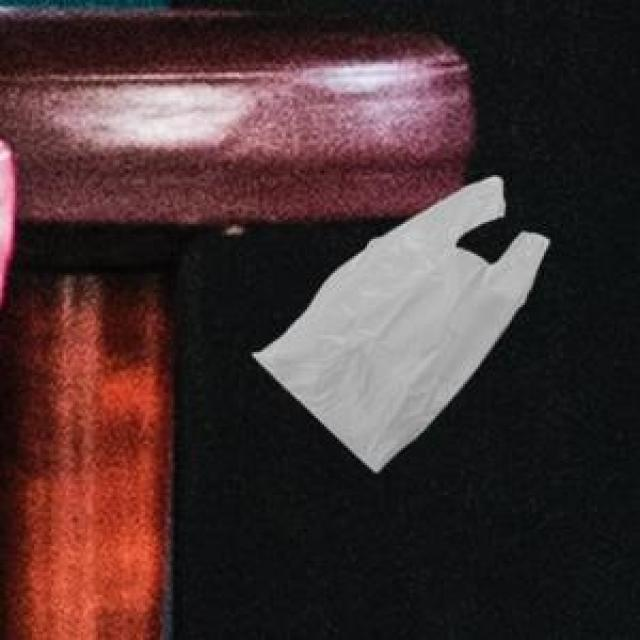waste: (254, 176, 550, 472)
